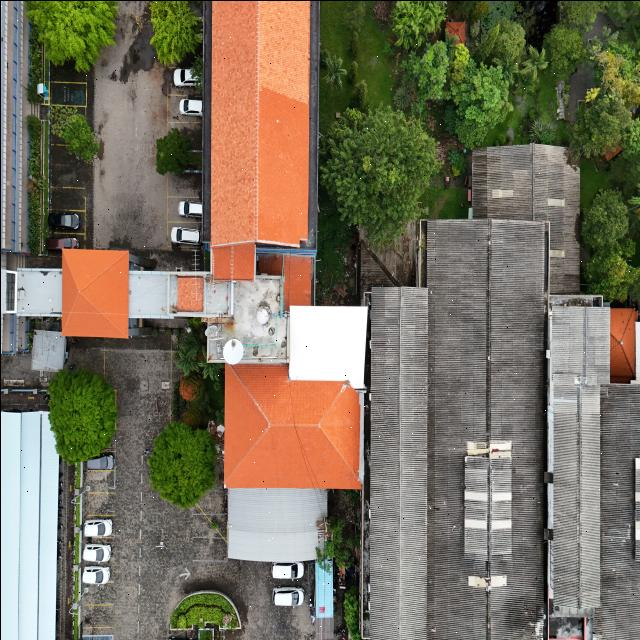Tree: (315, 99, 439, 253), (25, 0, 116, 74), (49, 370, 115, 460), (150, 422, 210, 502), (574, 188, 634, 252), (148, 0, 192, 65), (54, 108, 100, 168), (518, 39, 546, 84)
